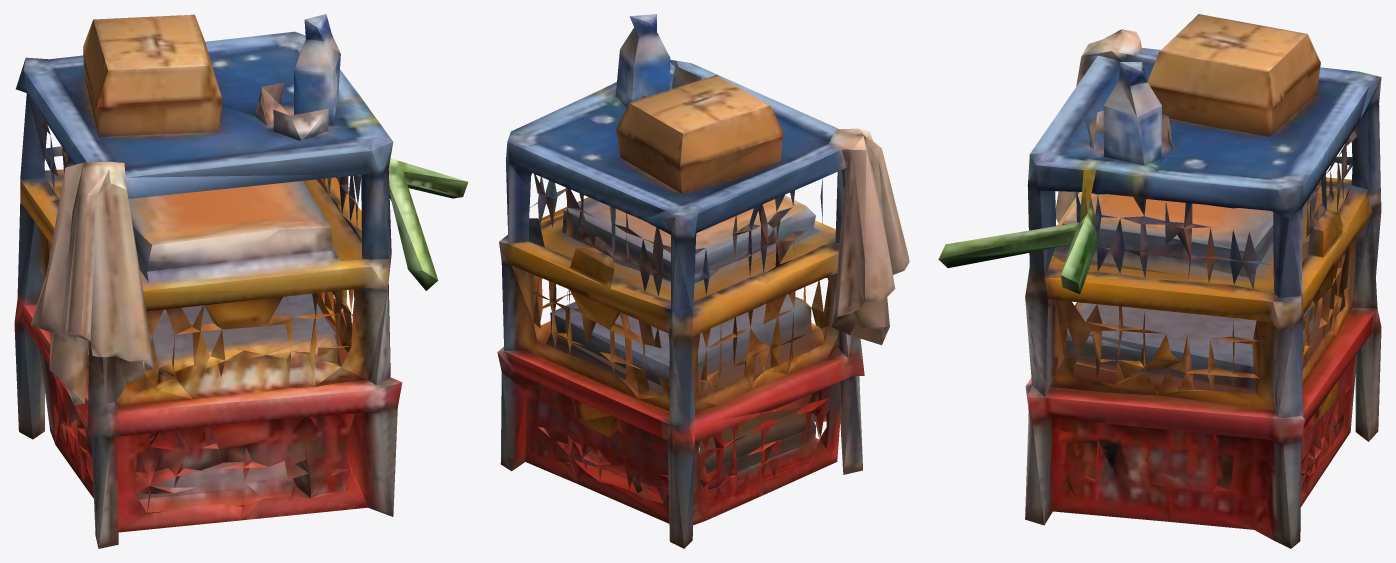
The model's file is misc04.glb.
3 renders of one model, left to right at view 1: azimuth 30°, elevation 25°; view 2: azimuth 150°, elevation 25°; view 3: azimuth 270°, elevation 25°, orthographic. The views are drawn at different scales.
Bounding box in the file's own units: 0.2221 × 0.2496 × 0.2238.
1 material, 1 textured.
